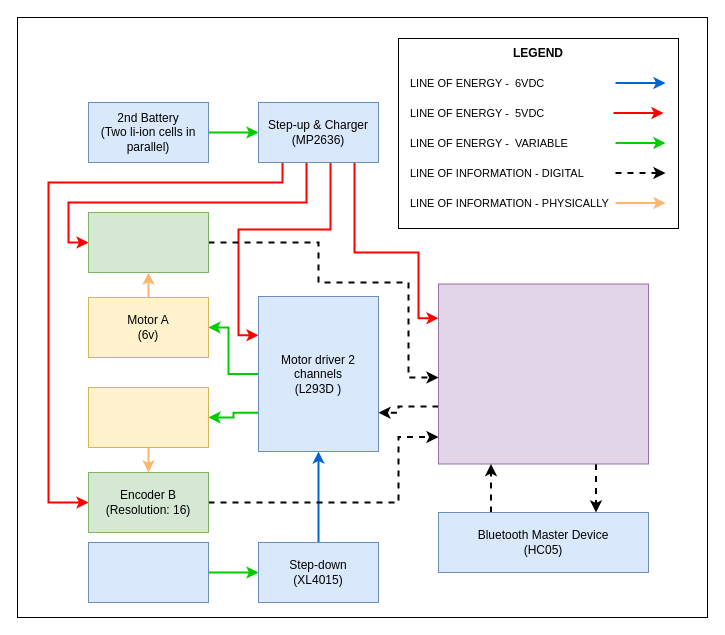
Some shapes in this 725 by 635 pixel diagram are drawn without their labels. The centre of each missing label's shape, as x and y in pixels:
1st Battery (Two li-ion cells in series): (x=148, y=572)
Encoder A (Resolution: 16): (x=148, y=242)
Microcontroller (Arduino Mega 2560): (x=543, y=373)
Motor B (6v): (x=148, y=417)
